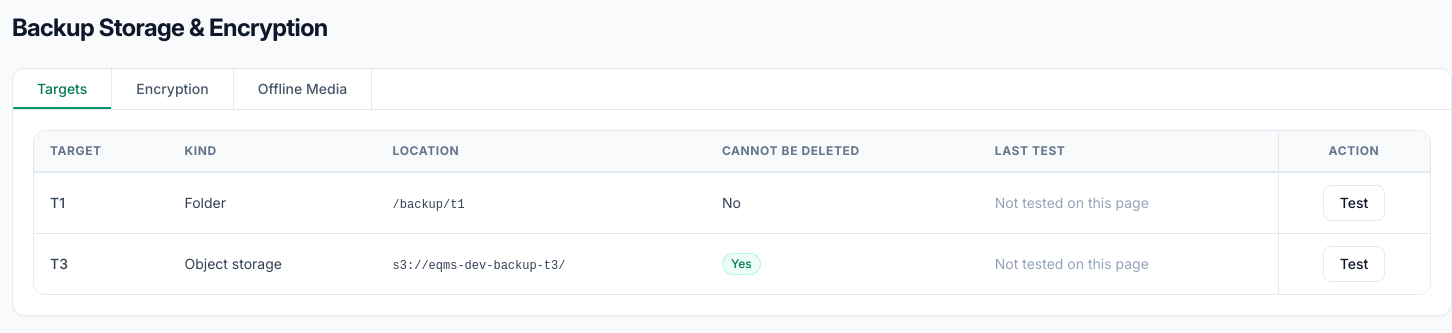
Test: Backup Storage & Encryption › tests a target on request and shows each step
The image size is (1452, 333).
Expected: the text "s3://eqms-dev-backup-t3/" is shown, [393,259,565,273]
Click the button "Test" in the row of "Object storage" at (1354, 264), box [1323,246,1385,282]
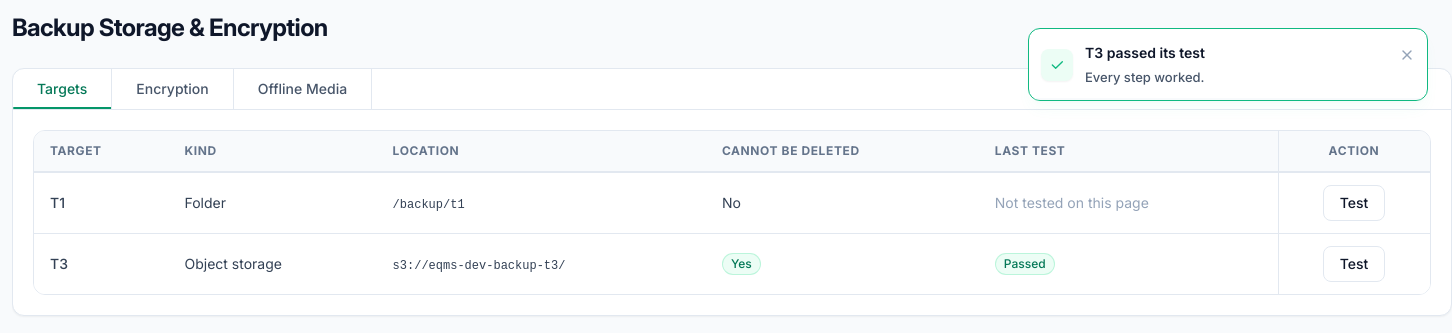
Now the text "Passed" is shown, box [995,253,1055,275]
